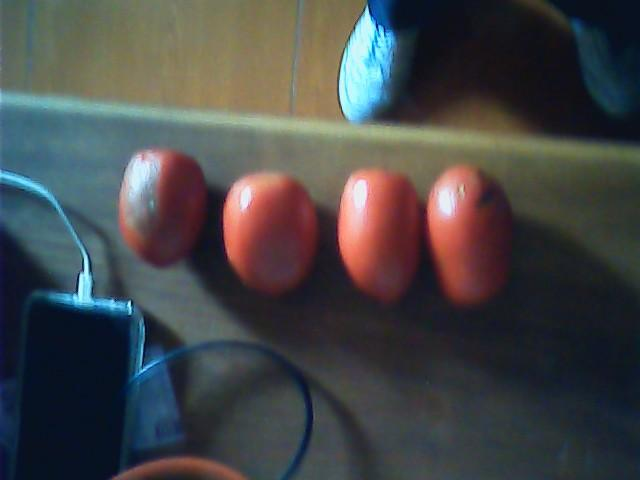defectuoso: (431, 162, 517, 314), (122, 146, 207, 269)
maduro: (221, 171, 319, 293), (338, 175, 420, 299)
